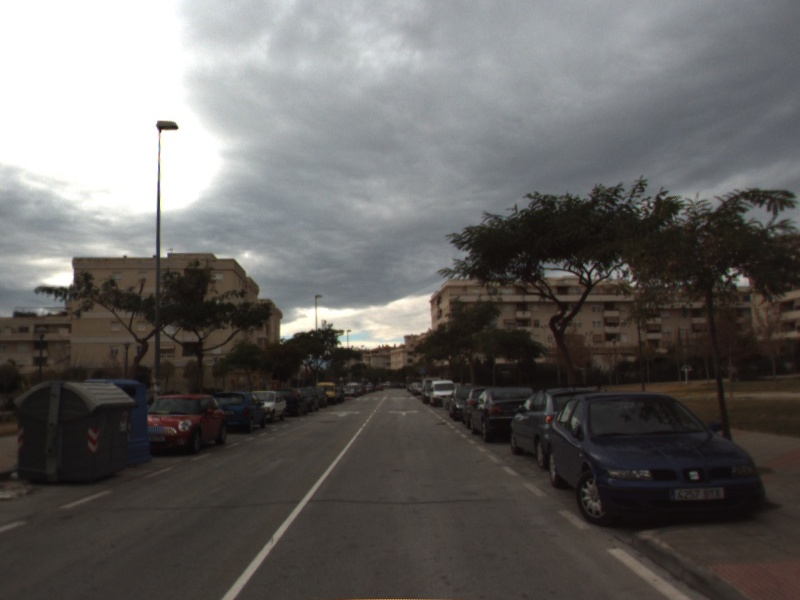LEFT_RIGHT: (386, 407, 421, 418)
